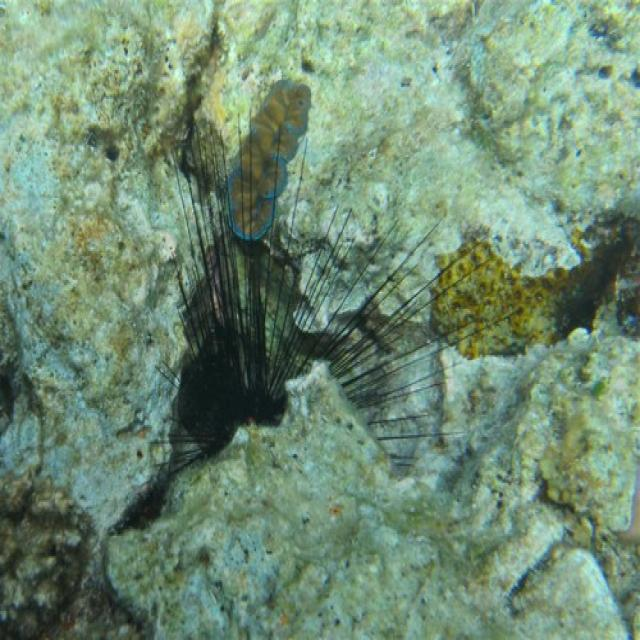Urchin: (146, 114, 512, 493)
